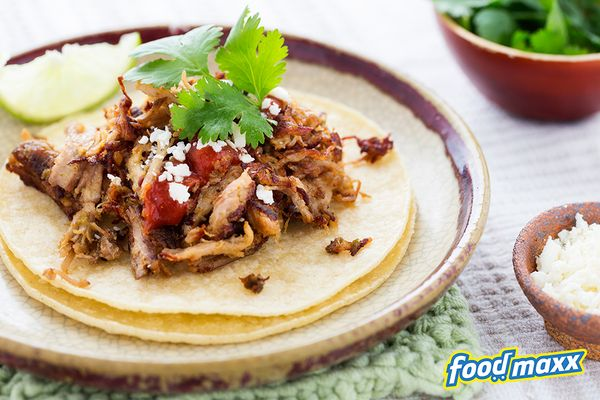sushi: (433, 1, 600, 122)
